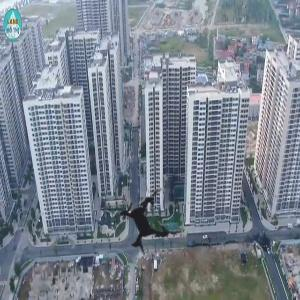drone: (92, 166, 204, 278)
